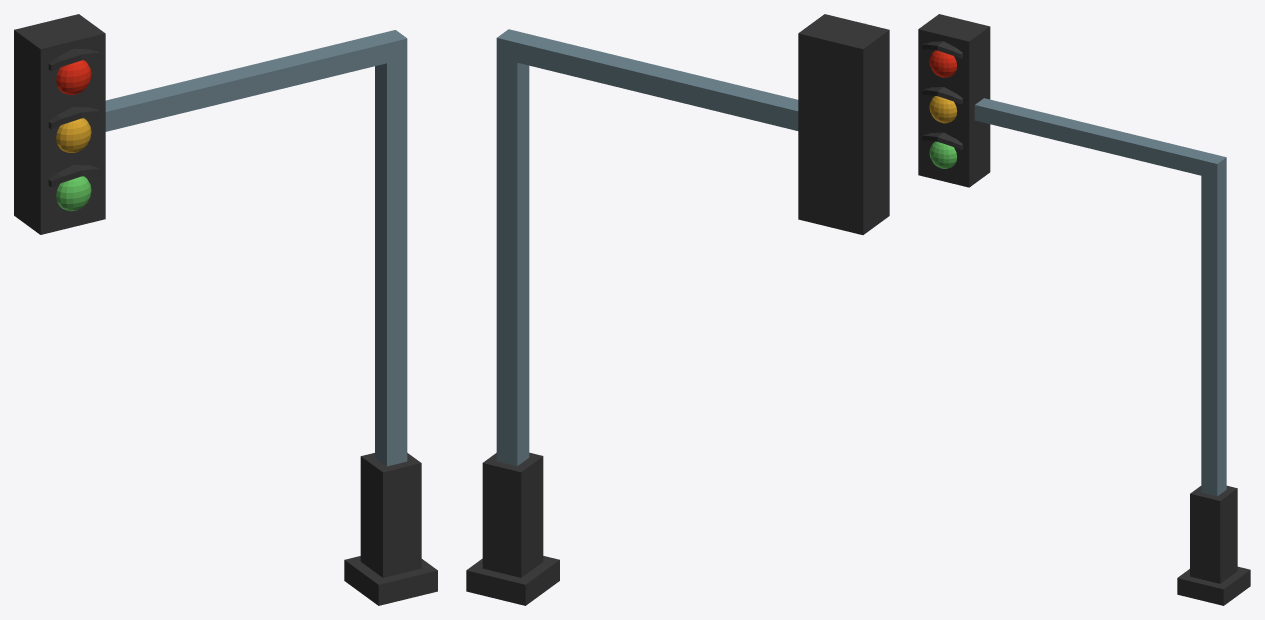
File: Traffic_light_2.glb
3 views of the same model, side by side, from view 1: azimuth 30°, elevation 25°; view 2: azimuth 150°, elevation 25°; view 3: azimuth 330°, elevation 25° (orthographic). The views are drawn at different scales.
Visible parts, largest first — view 1: Traffic light 2; view 2: Traffic light 2; view 3: Traffic light 2.
Part boxes in pixels (left/top/right/bottom): Traffic light 2: left=14, top=14, right=437, bottom=605; Traffic light 2: left=466, top=14, right=889, bottom=605; Traffic light 2: left=918, top=14, right=1250, bottom=605.
Bounding box in the file's own units: 2.04 × 3.15 × 0.3416.
